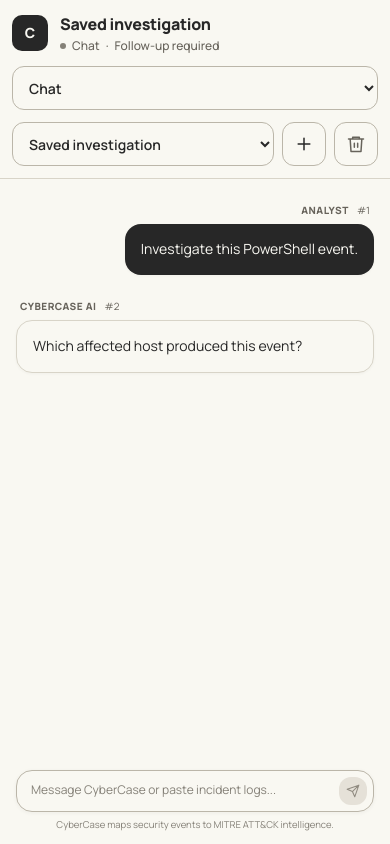
Test: active chat route › switches workspace views from the mobile selector
The image size is (390, 844).
Select "Report generation" in the dropdown named "Select workspace" at x=195, y=88, box [12,66,378,110]
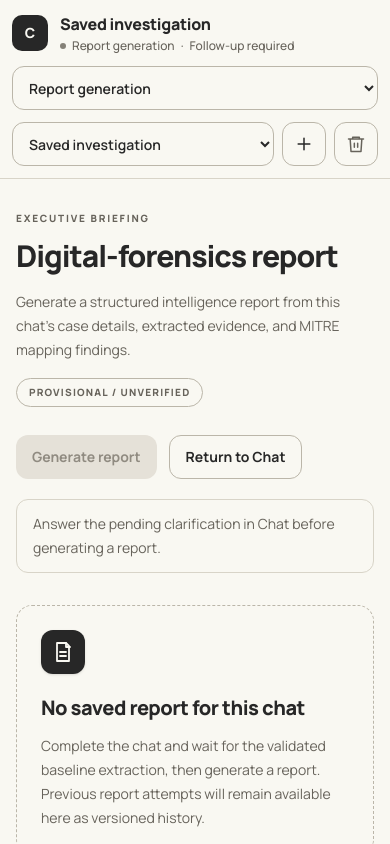
Check: the heading "Digital-forensics report" is shown, box [16,238,374,274]
